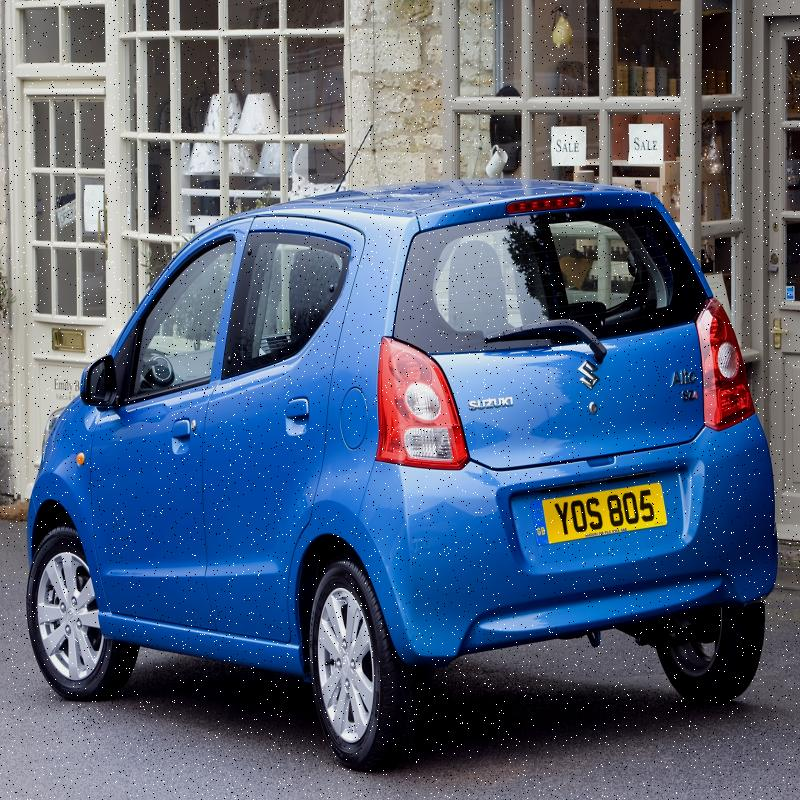car: (33, 179, 761, 738)
